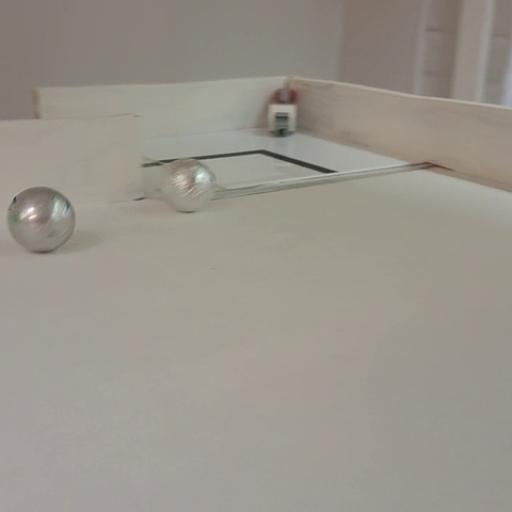alive: (6, 186, 76, 254), (158, 157, 218, 213)
